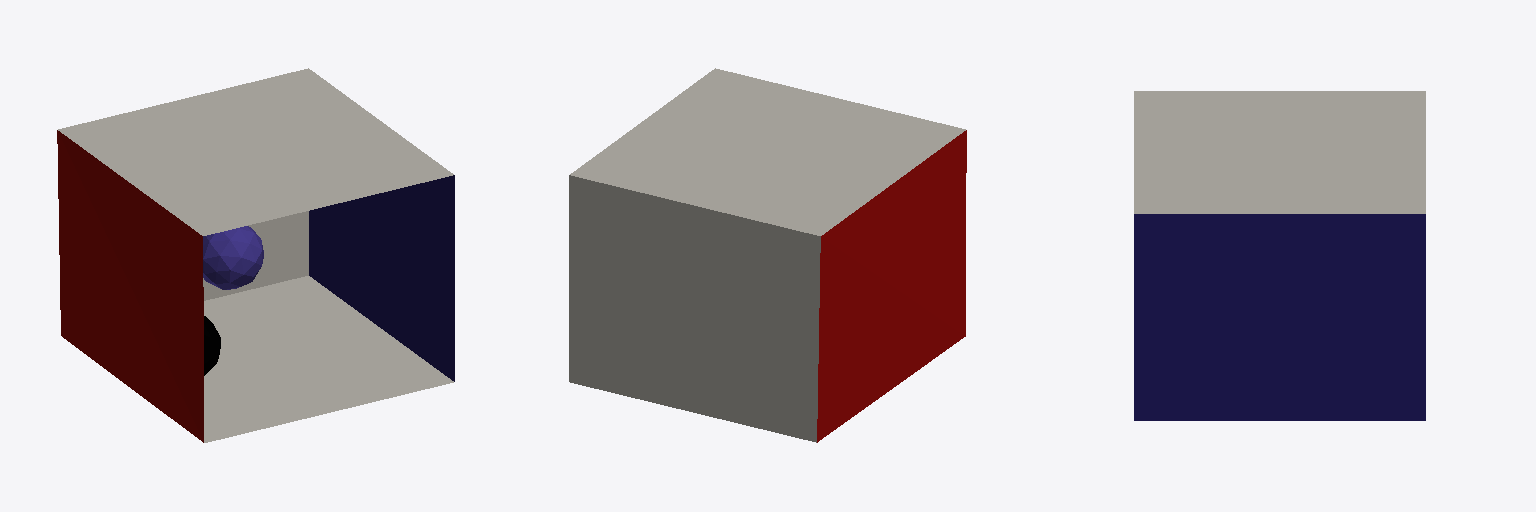
Rendered from CornellBox-Sphere-1035.obj.
3 views of the same model, side by side, from view 1: azimuth 30°, elevation 25°; view 2: azimuth 150°, elevation 25°; view 3: azimuth 270°, elevation 25° (orthographic).
Parts seen in each view (by area): view 1: ceiling, leftWall, floor, rightWall, backWall, leftSphere, rightSphere; view 2: backWall, ceiling, leftWall; view 3: rightWall, ceiling.
Boxes of the visible parts, x1=… form: ceiling: x1=58, y1=68, x2=453, y2=235; leftWall: x1=57, y1=130, x2=203, y2=442; floor: x1=204, y1=276, x2=453, y2=442; rightWall: x1=309, y1=175, x2=454, y2=381; backWall: x1=203, y1=211, x2=308, y2=300; leftSphere: x1=203, y1=226, x2=263, y2=289; rightSphere: x1=204, y1=316, x2=220, y2=375; backWall: x1=569, y1=175, x2=820, y2=442; ceiling: x1=570, y1=68, x2=965, y2=235; leftWall: x1=817, y1=130, x2=966, y2=442; rightWall: x1=1134, y1=214, x2=1425, y2=420; ceiling: x1=1134, y1=91, x2=1425, y2=213.
Bounding box in the file's own units: 2.02 × 1.59 × 2.03.